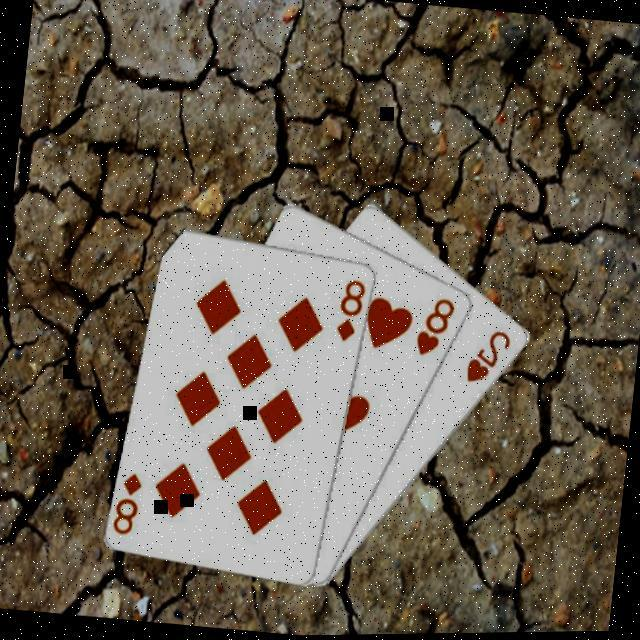2H: (462, 323, 516, 389)
8D: (110, 466, 147, 537), (334, 274, 371, 344)
8H: (412, 290, 460, 360)
